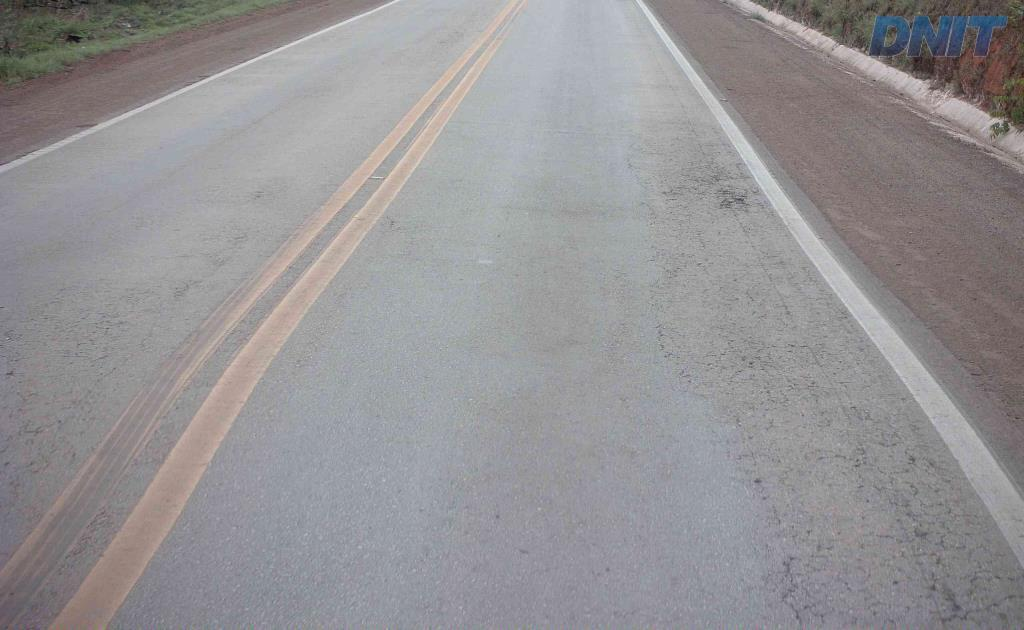crack: (963, 537, 1023, 629), (929, 583, 982, 629), (706, 166, 752, 212), (903, 440, 945, 474)
